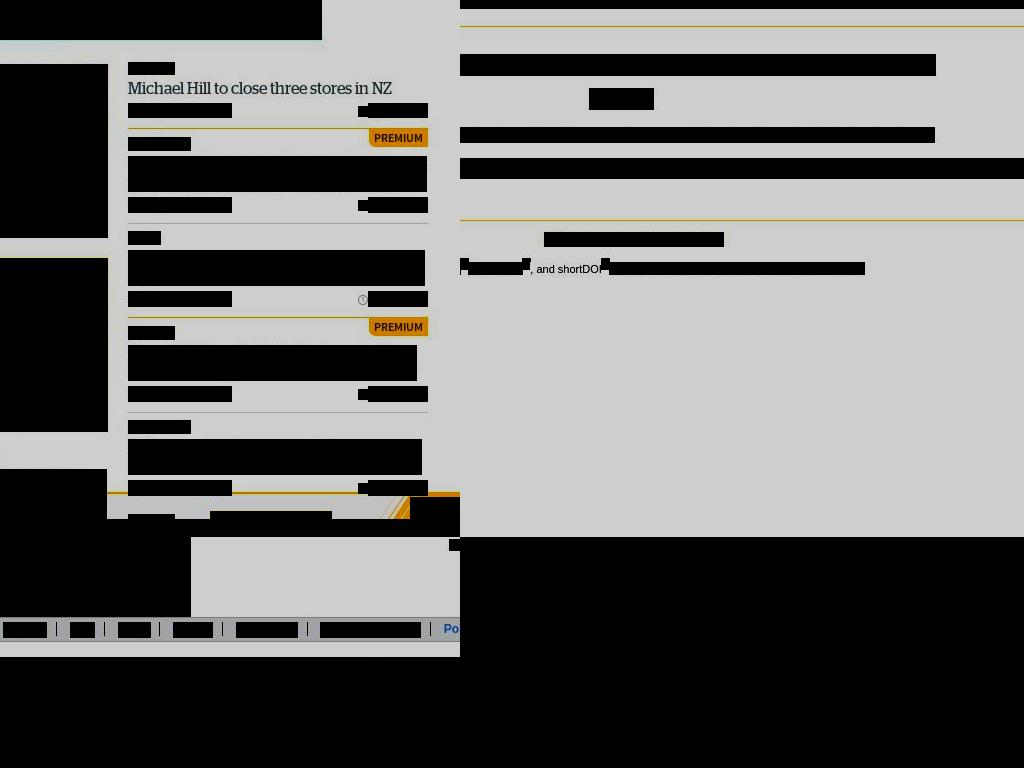button: (210, 511, 332, 537)
field: (460, 54, 936, 76), (589, 88, 654, 110)
heading: (128, 156, 427, 192), (128, 250, 425, 286), (128, 439, 422, 475), (128, 345, 417, 381), (0, 519, 460, 537), (0, 469, 107, 537), (460, 0, 1024, 9), (128, 81, 393, 97), (0, 153, 83, 190), (320, 622, 421, 638), (236, 622, 298, 638), (3, 622, 47, 638), (173, 622, 213, 638), (118, 622, 151, 638), (70, 622, 95, 638), (443, 622, 460, 638)
iframe: (472, 537, 962, 768), (460, 576, 1024, 666)
image: (460, 537, 1024, 768), (0, 657, 460, 768), (0, 64, 108, 233), (0, 258, 108, 427), (0, 537, 191, 617), (410, 497, 460, 537), (358, 106, 369, 117), (358, 200, 369, 211), (358, 294, 369, 305), (358, 389, 369, 400), (358, 483, 369, 494)
link: (544, 232, 724, 247)
text: (460, 158, 1024, 179), (460, 127, 935, 143), (609, 262, 865, 275), (128, 197, 232, 213), (128, 291, 232, 307), (128, 386, 232, 402), (128, 480, 232, 496), (128, 103, 232, 118), (0, 202, 88, 217), (0, 396, 88, 411), (368, 197, 428, 213), (368, 291, 428, 307), (368, 386, 428, 402), (368, 480, 428, 496), (530, 262, 602, 275), (368, 103, 428, 118), (128, 137, 191, 151), (128, 420, 191, 434), (468, 262, 523, 275), (128, 326, 175, 340), (128, 514, 175, 528), (128, 62, 175, 75), (128, 231, 161, 245), (460, 258, 469, 270), (522, 258, 531, 270), (601, 258, 610, 270)
